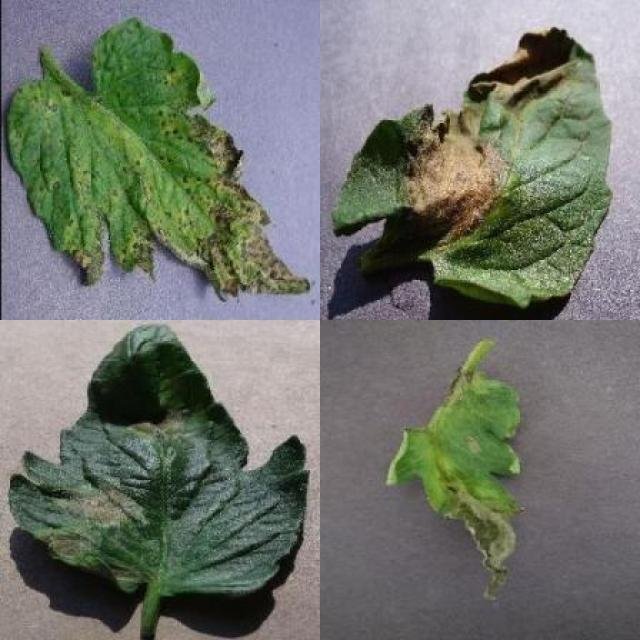Late Blight: (6, 322, 311, 598), (330, 24, 614, 307), (383, 369, 524, 600)
Septoria: (7, 17, 310, 303)
